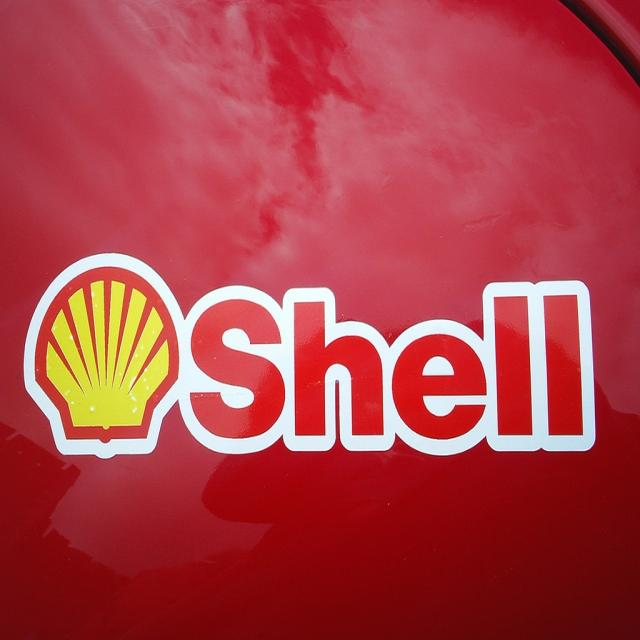shell: (34, 265, 182, 442)
